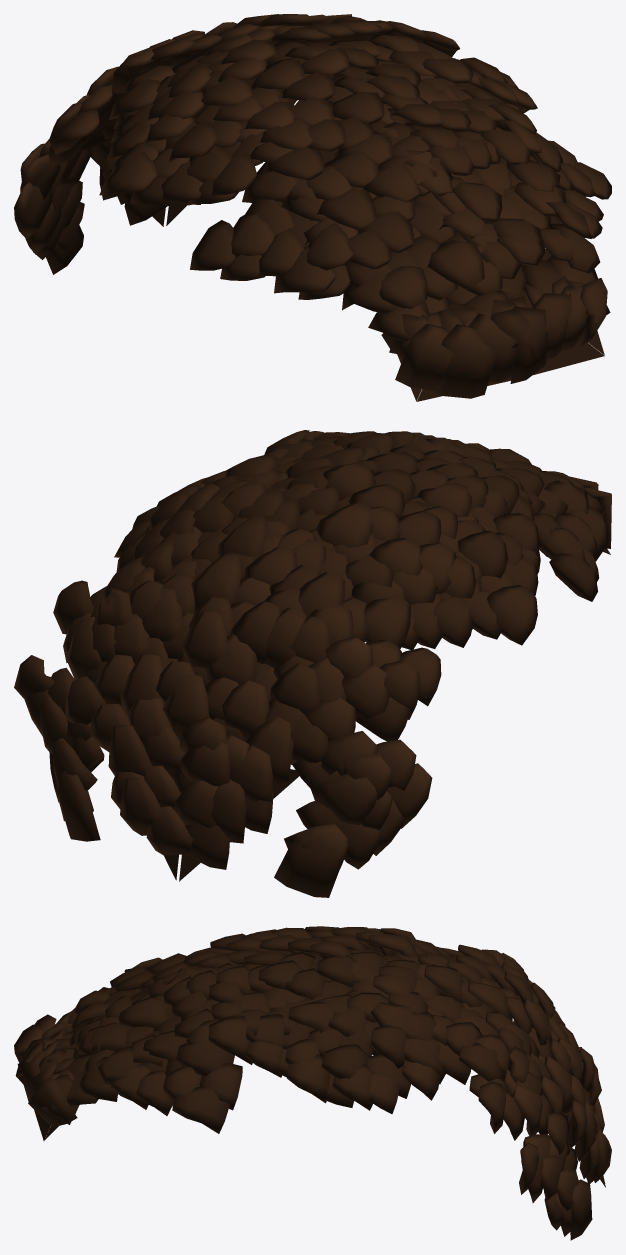
File: kopf.haar.militaer.glb
The picture shows the model from 3 angles, top to bottom: view 1: azimuth 30°, elevation 25°; view 2: azimuth 150°, elevation 25°; view 3: azimuth 270°, elevation 25°; orthographic projection. The views are drawn at different scales.
Visible parts, largest first — view 1: haar; view 2: haar; view 3: haar.
Boxes of the visible parts, x1=… form: haar: x1=14, y1=14, x2=611, y2=401; haar: x1=14, y1=430, x2=611, y2=897; haar: x1=14, y1=926, x2=611, y2=1240.
Size of the model in its own units: 0.1463 by 0.0982 by 0.2199.
